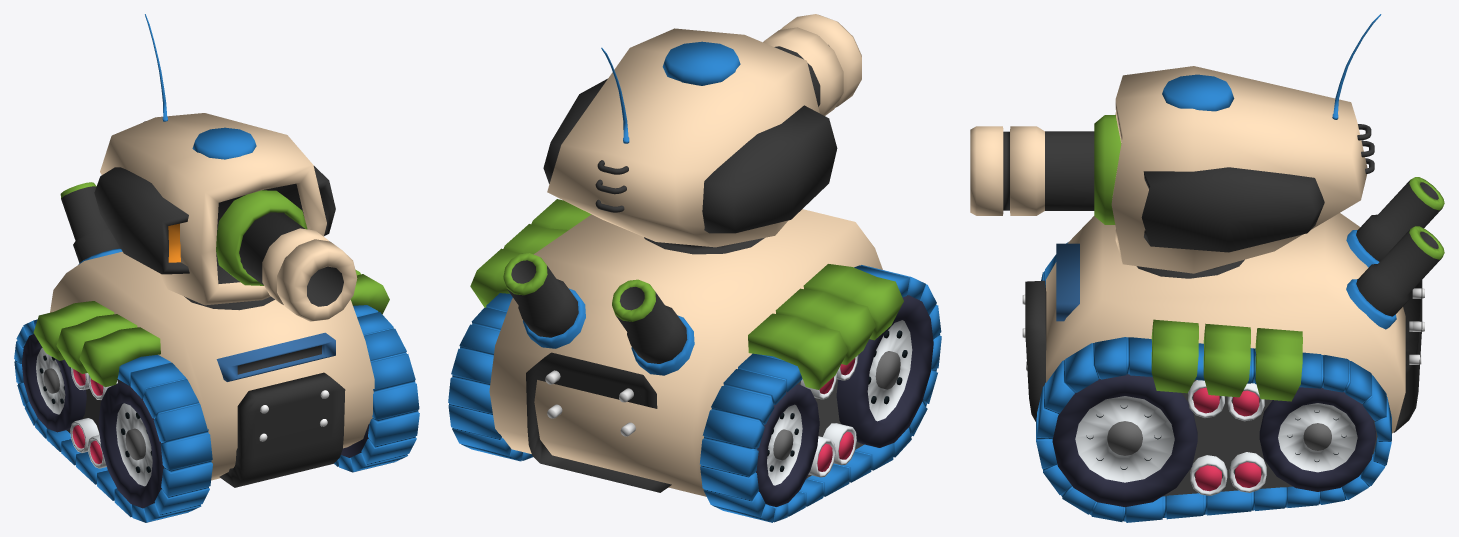
File: Tank2.fbx
3 renders of one model, left to right at view 1: azimuth 30°, elevation 25°; view 2: azimuth 150°, elevation 25°; view 3: azimuth 270°, elevation 25°, orthographic. The views are drawn at different scales.
Parts seen in each view (by area): view 1: Tank2, Tank2.Turret, Tank2.Wheel2, Tank2.Wheel4; view 2: Tank2, Tank2.Turret, Tank2.Wheel2, Tank2.Wheel4; view 3: Tank2, Tank2.Turret, Tank2.Wheel1, Tank2.Wheel3.
Boxes of the visible parts, x1,y1,x2,y2 form: Tank2: [14, 182, 419, 522]; Tank2.Turret: [94, 14, 357, 321]; Tank2.Wheel2: [98, 382, 164, 508]; Tank2.Wheel4: [22, 334, 86, 432]; Tank2: [448, 199, 941, 522]; Tank2.Turret: [543, 14, 861, 254]; Tank2.Wheel2: [836, 295, 933, 447]; Tank2.Wheel4: [756, 384, 819, 506]; Tank2: [1022, 177, 1444, 522]; Tank2.Turret: [970, 14, 1381, 278]; Tank2.Wheel1: [1052, 374, 1197, 507]; Tank2.Wheel3: [1259, 387, 1375, 491].
Bounding box in the file's own units: 1.6 × 2.06 × 2.
